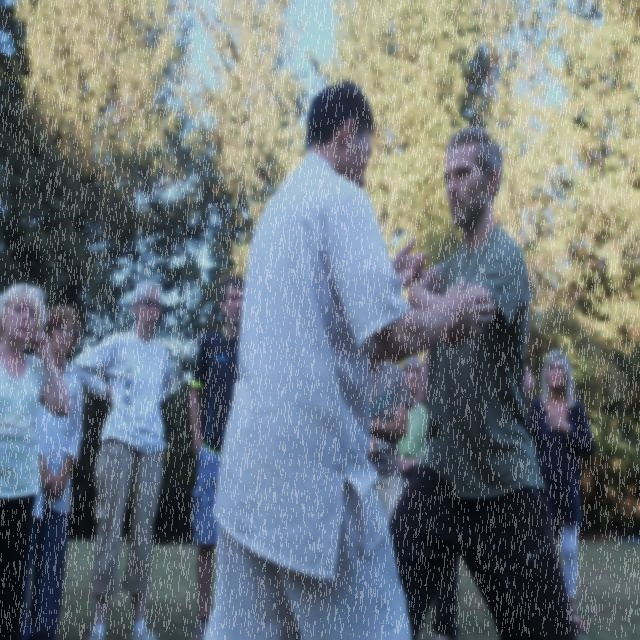pessoa: (194, 74, 498, 639), (392, 124, 574, 640), (69, 278, 171, 639), (0, 283, 73, 639), (20, 304, 84, 640), (188, 274, 245, 640), (528, 349, 594, 632), (366, 352, 414, 530), (398, 356, 428, 484), (430, 552, 462, 640), (416, 349, 428, 412), (524, 364, 536, 409), (290, 620, 303, 636)
